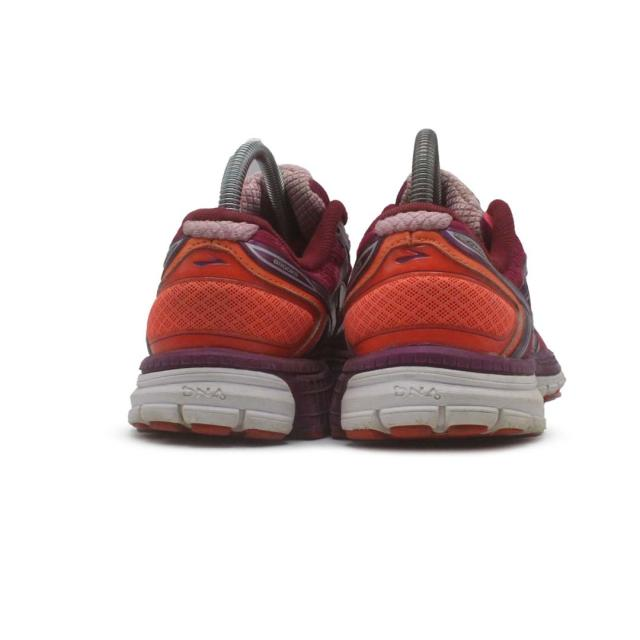heel: (348, 208, 529, 356), (147, 214, 333, 355)
midsole: (328, 343, 569, 446), (125, 340, 335, 435)
